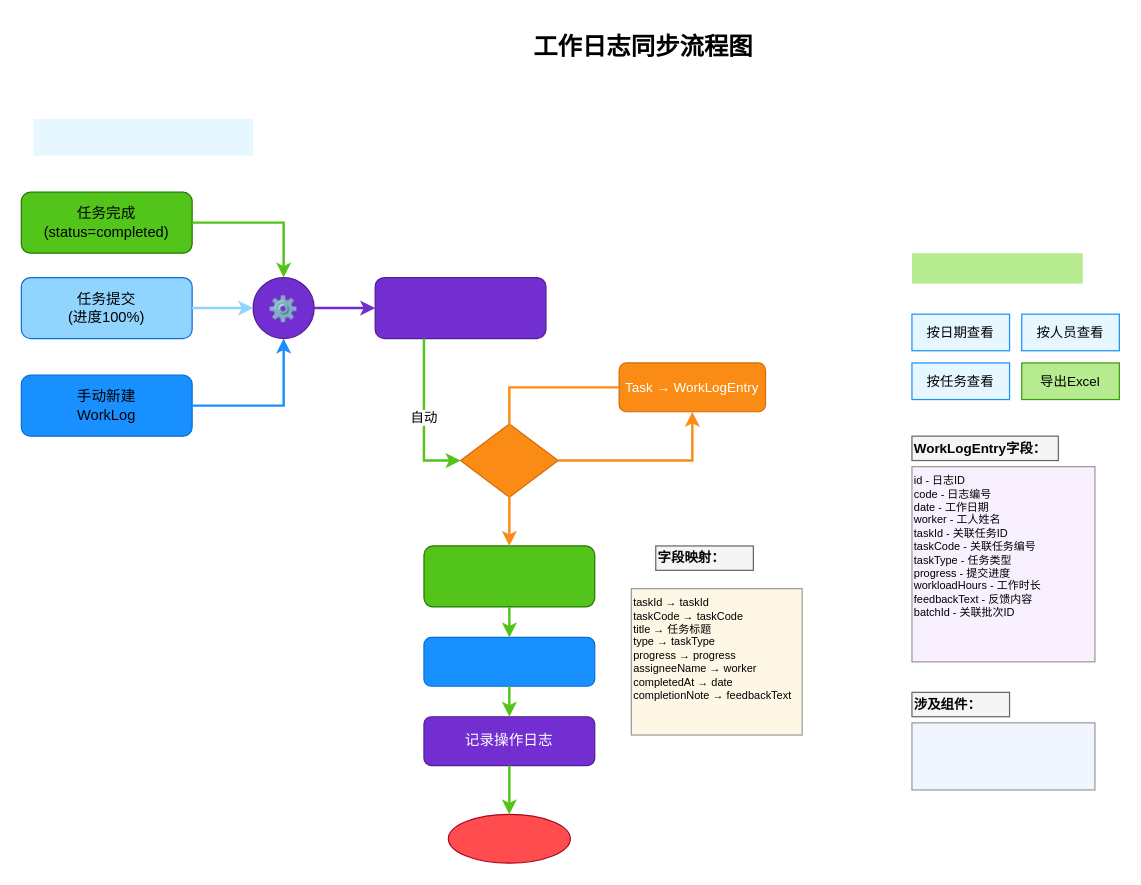
Some shapes in this 1141 by 885 pixel diagram are drawn without their labels. The shapes that lost their labels are listed below. From the top down, each one's centre as x and y in pixels, then its label:
At (x=143, y=136): "同步触发场景".
At (x=996, y=268): "WorkLogPage展示".
At (x=460, y=307): "usePersistentWorkLogs 自动同步".
At (x=508, y=460): "数据转换".
At (x=509, y=576): "保存到localStorage WORK_LOGS".
At (x=509, y=661): "关联FarmBatch".
At (x=1003, y=756): "WorkLogPage usePersistentWorkLogs useTasks".
At (x=508, y=838): "同步完成".
